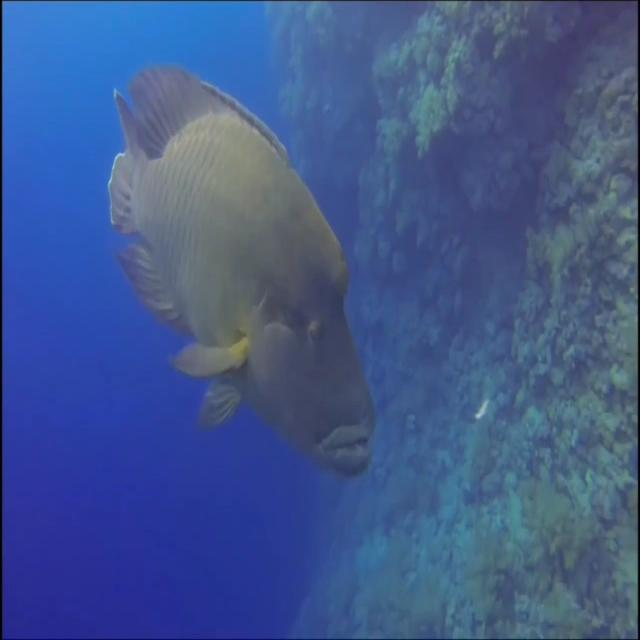Napoleon -Endangered-: (109, 70, 376, 478)
